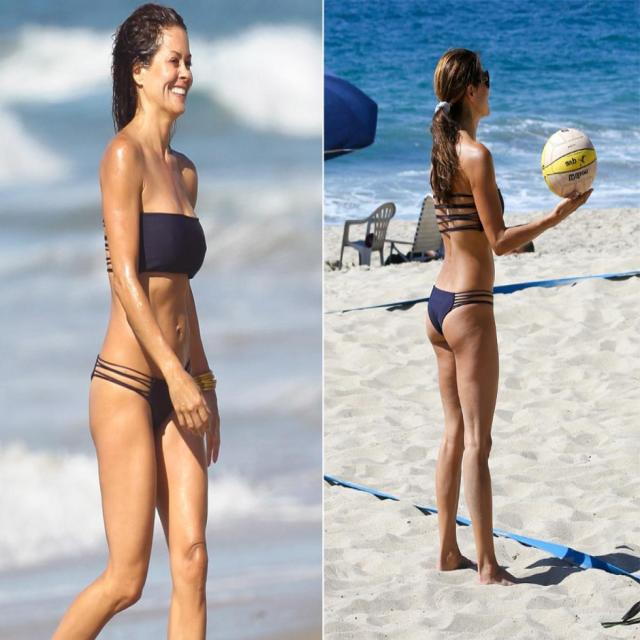no-earmuff: (121, 48, 152, 108), (462, 68, 478, 119)
